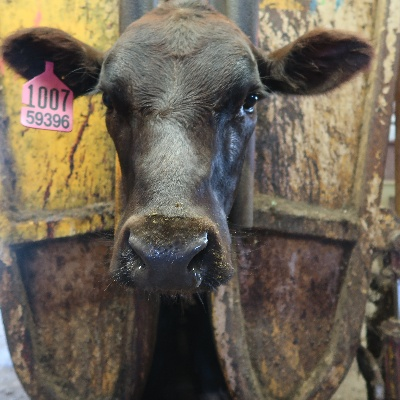fidget_spinner: (150, 148, 286, 239), (114, 216, 230, 303), (121, 214, 216, 299), (136, 201, 224, 275), (131, 204, 224, 270)
